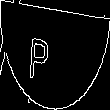P_N: (43, 28, 67, 82)
